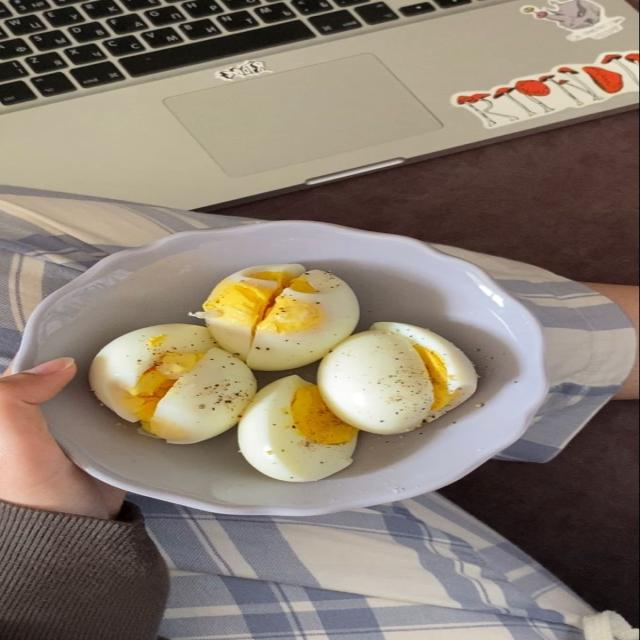egg boiled: (90, 324, 256, 443), (318, 323, 476, 434), (197, 264, 359, 370), (239, 375, 358, 481), (318, 331, 433, 434), (372, 323, 477, 421)
